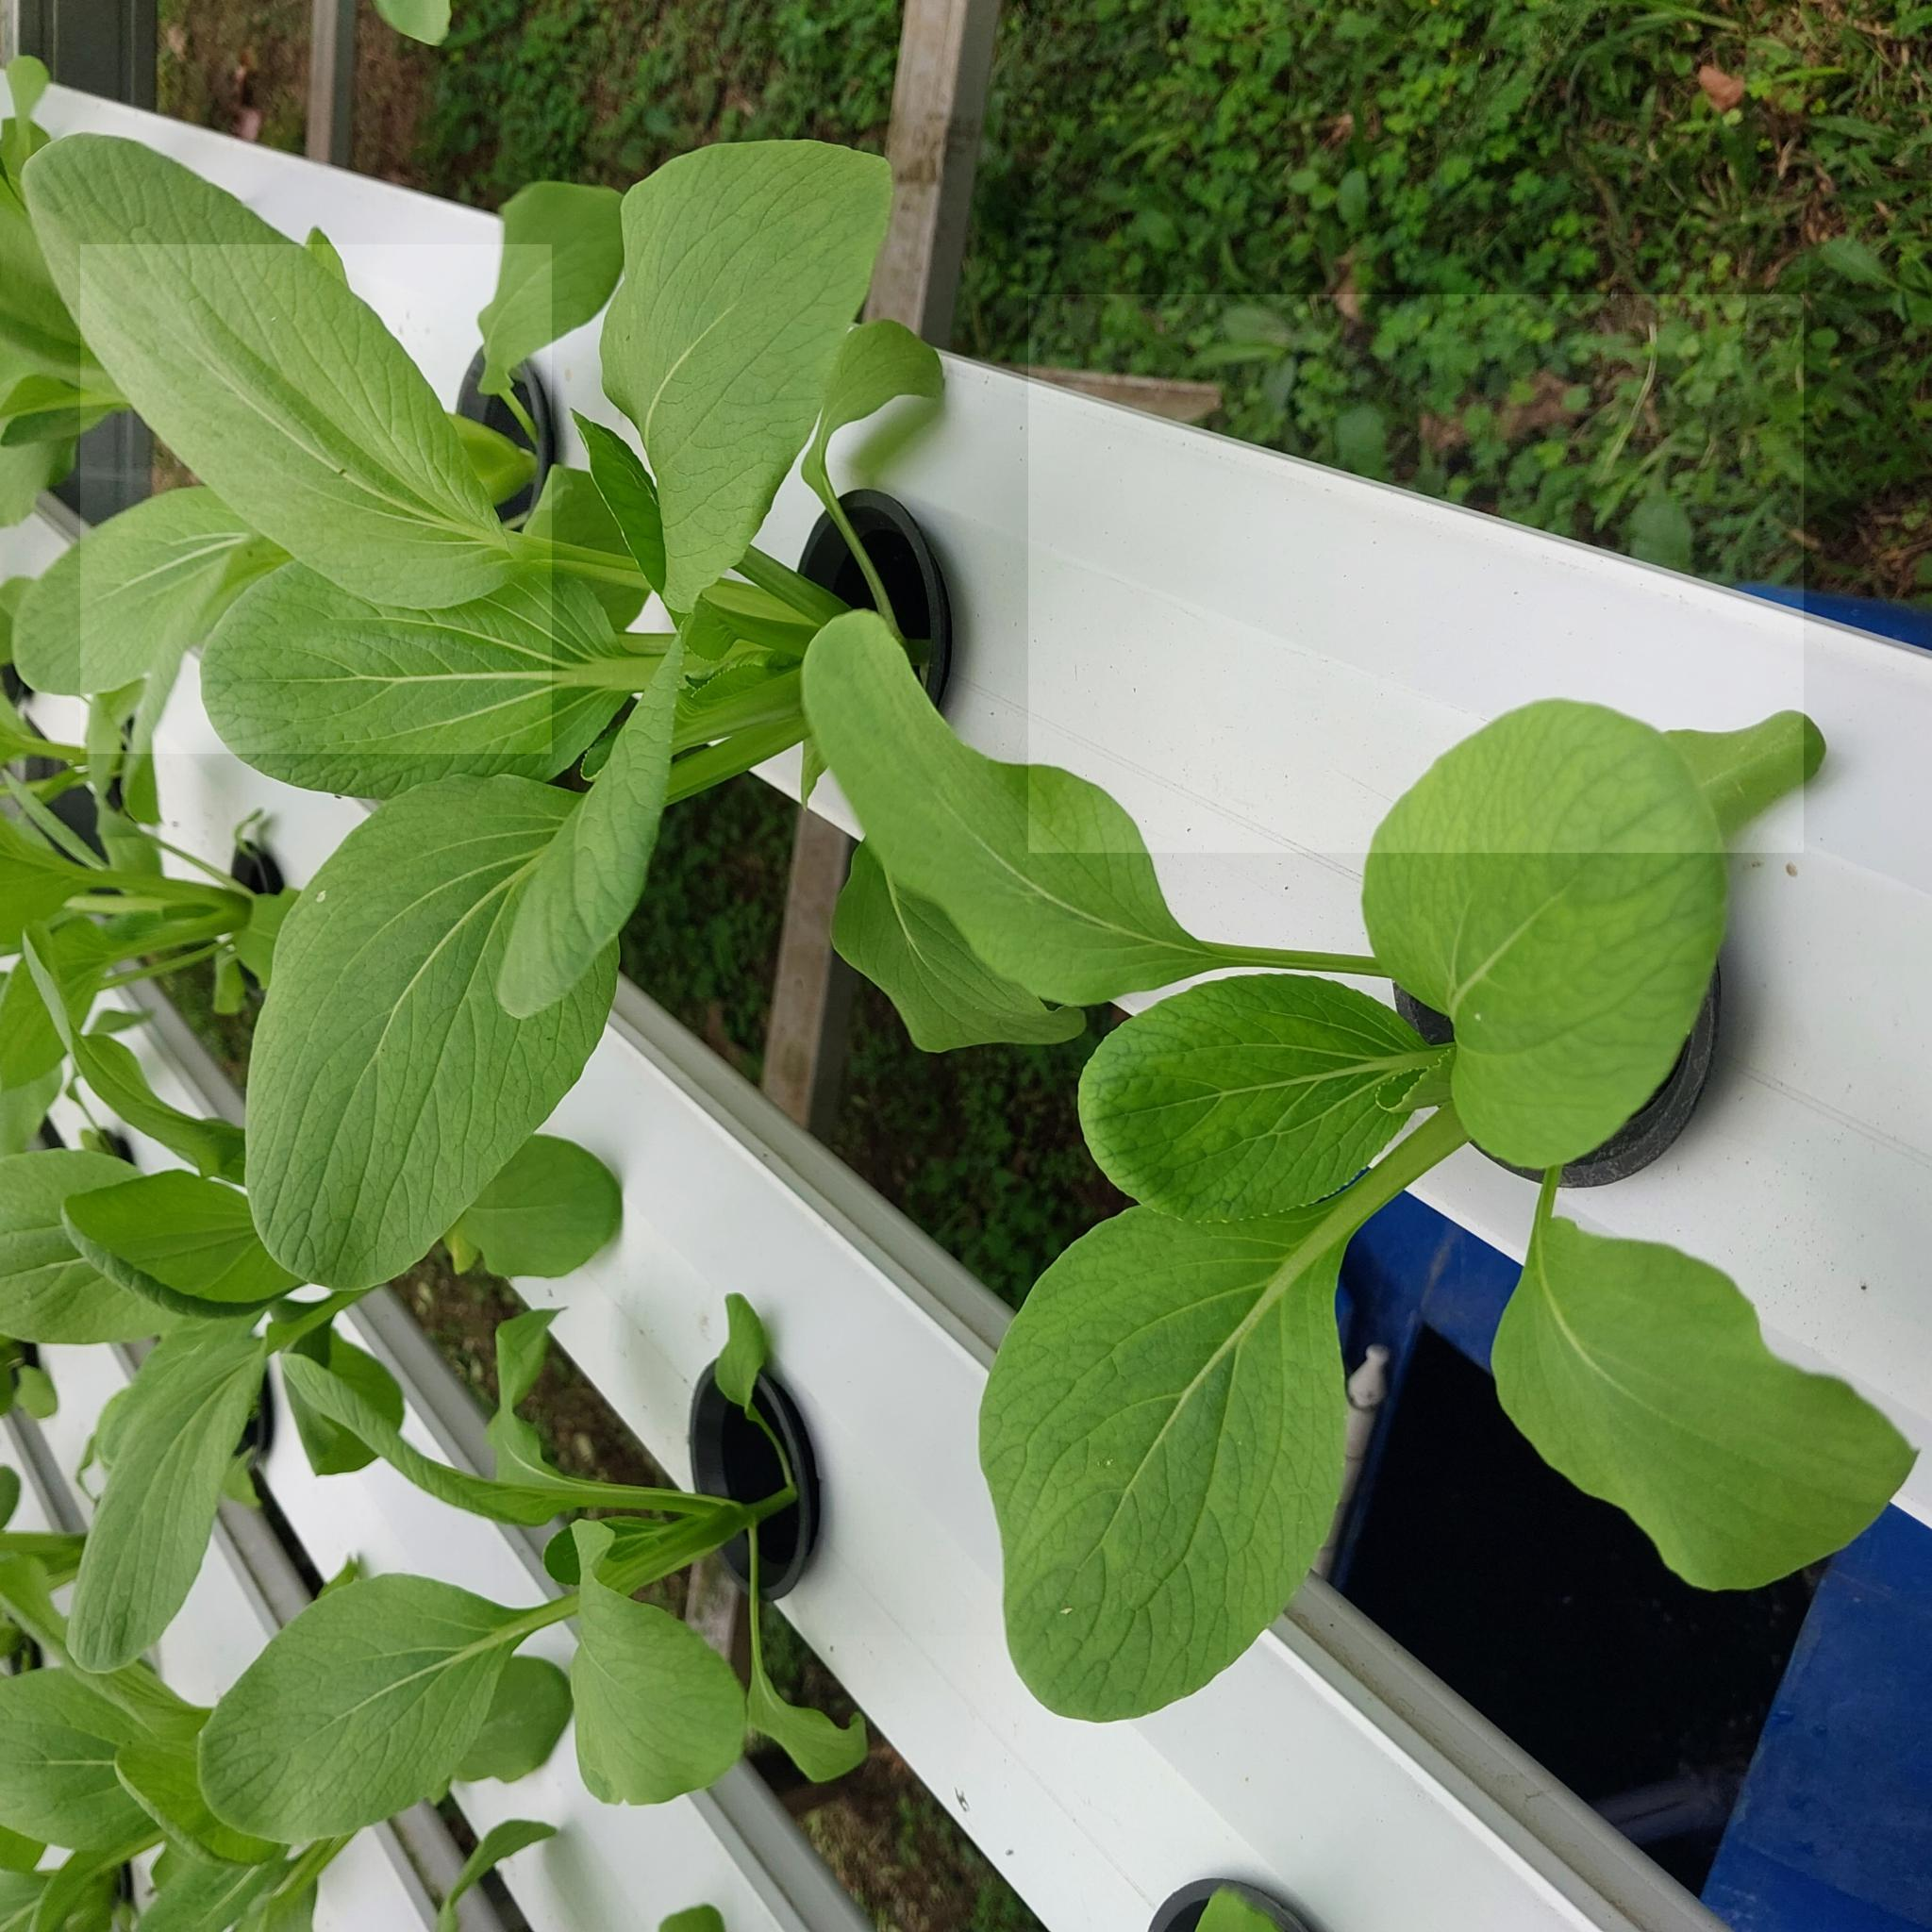Healthy-Pechay: (16, 136, 524, 605), (993, 1177, 1403, 1725), (244, 761, 639, 1240), (1488, 1173, 1920, 1591), (1361, 711, 1753, 1152), (598, 133, 892, 628), (195, 548, 630, 796), (198, 1566, 575, 1851), (812, 625, 1069, 1037), (996, 793, 1391, 1028), (1077, 977, 1444, 1224), (276, 1302, 674, 1529), (60, 1304, 278, 1683), (497, 646, 695, 1012), (7, 485, 283, 713), (561, 1525, 745, 1806), (103, 1660, 304, 1861), (57, 1168, 310, 1309), (736, 1497, 860, 1785), (4, 1670, 184, 1867), (57, 1005, 264, 1161), (157, 1828, 366, 1928), (276, 1318, 405, 1479), (0, 1242, 184, 1348), (0, 370, 127, 510), (2, 924, 88, 1104), (0, 1530, 92, 1665)
